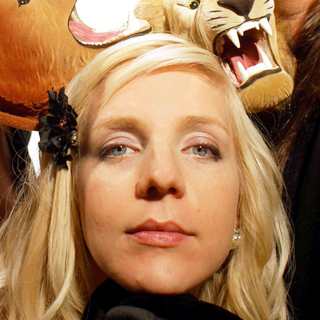eye: (175, 135, 223, 164), (88, 139, 144, 161)
